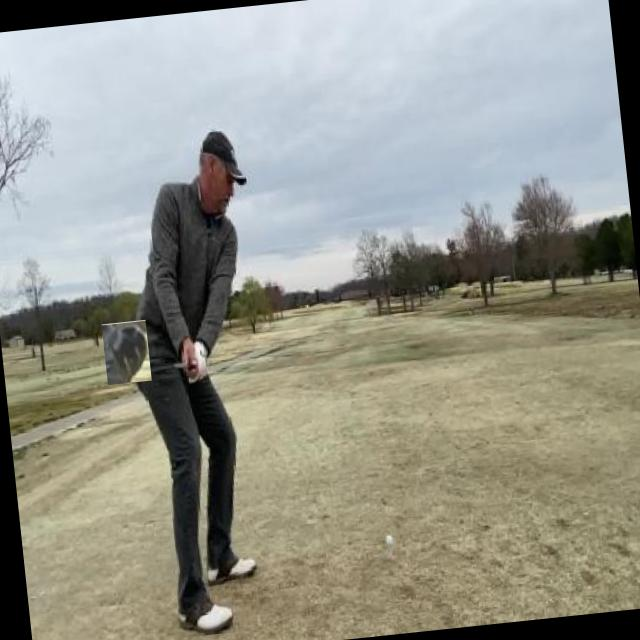club head: (102, 320, 152, 384)
